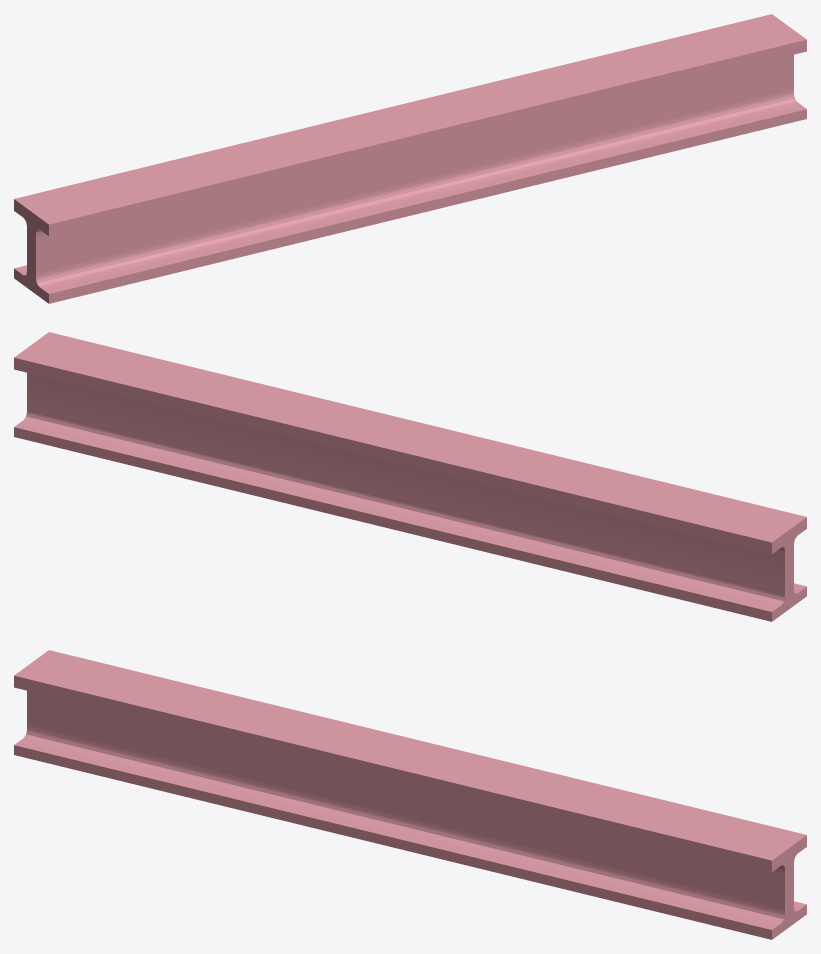
File: SM_Poutre.fbx
The picture shows the model from 3 angles, top to bottom: view 1: azimuth 30°, elevation 25°; view 2: azimuth 150°, elevation 25°; view 3: azimuth 330°, elevation 25°; orthographic projection.
Parts seen in each view (by area): view 1: Poutre; view 2: Poutre; view 3: Poutre.
Boxes of the visible parts, box(x1,y1,x2,y2) form: Poutre: box(14, 14, 806, 303); Poutre: box(14, 332, 806, 621); Poutre: box(14, 650, 806, 939).
Bounding box in the file's own units: 100 × 10 × 8.
